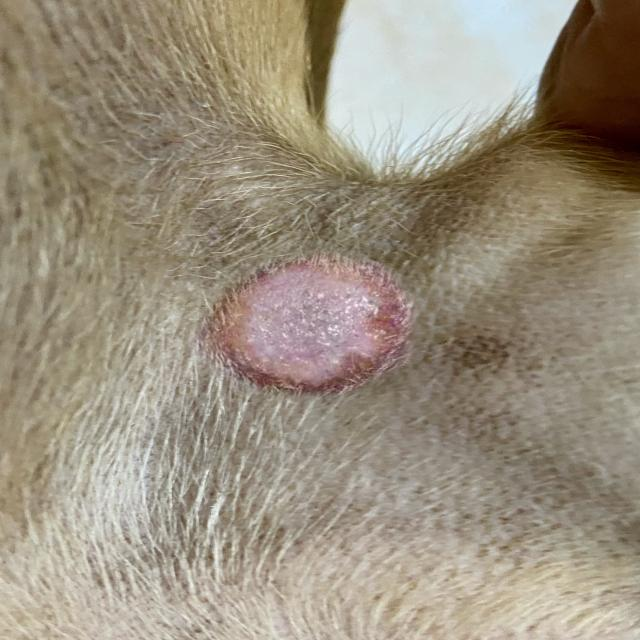ringworm: (183, 232, 440, 411)
